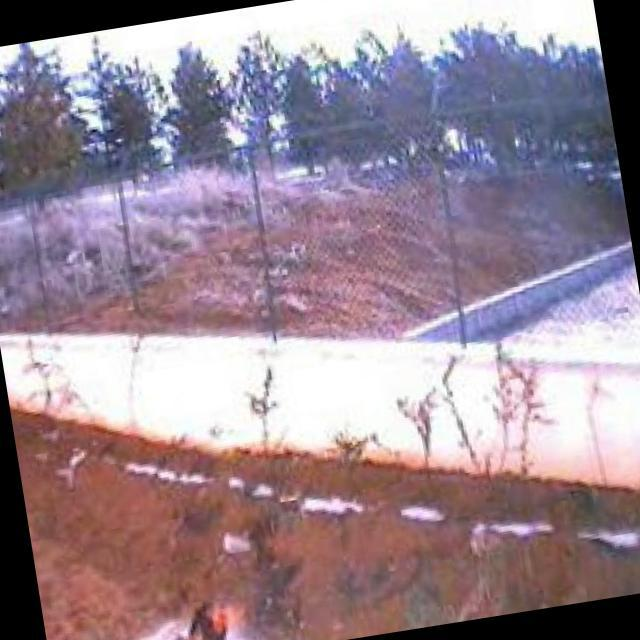Fire: (148, 594, 254, 640)
